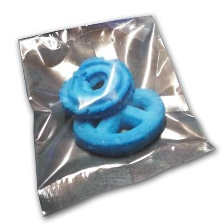snack: (10, 9, 223, 224)
